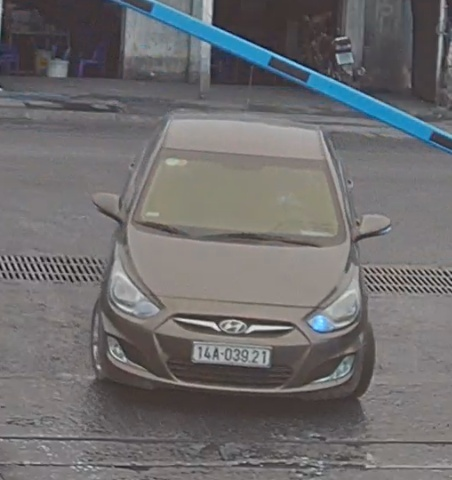vehicle plate: (190, 337, 282, 370)
